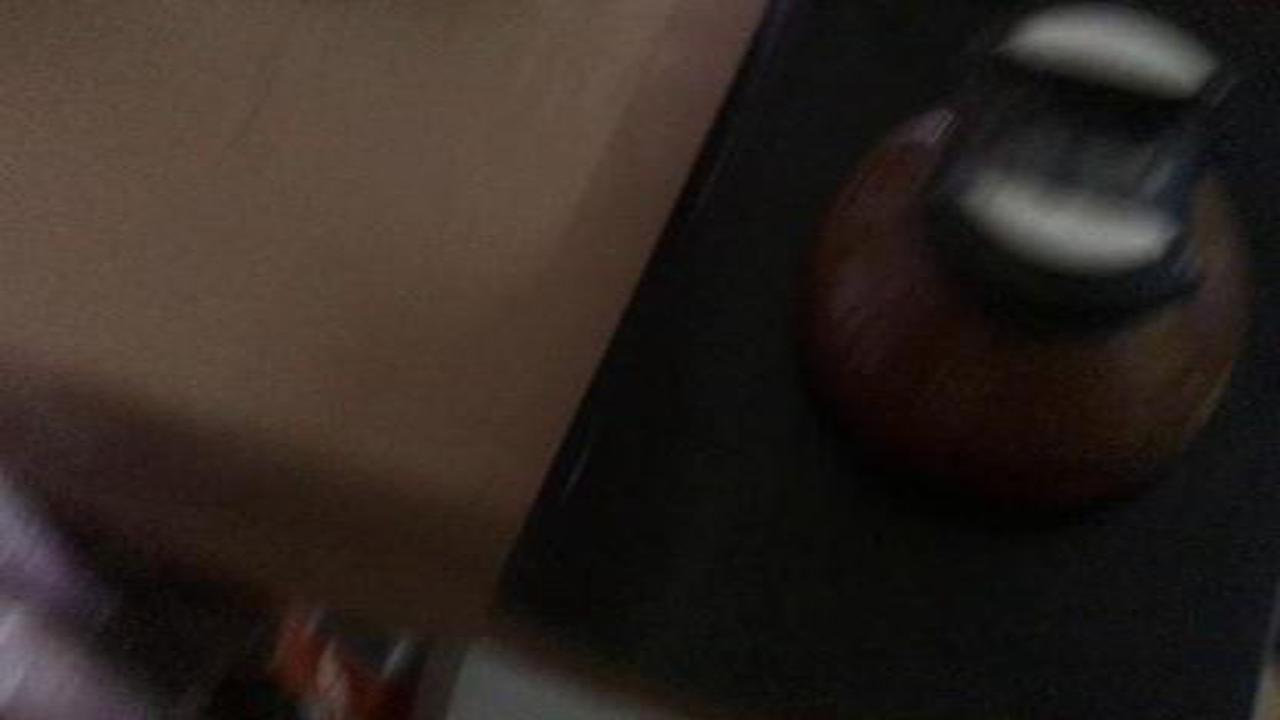insulator_pin: (785, 21, 1271, 549)
